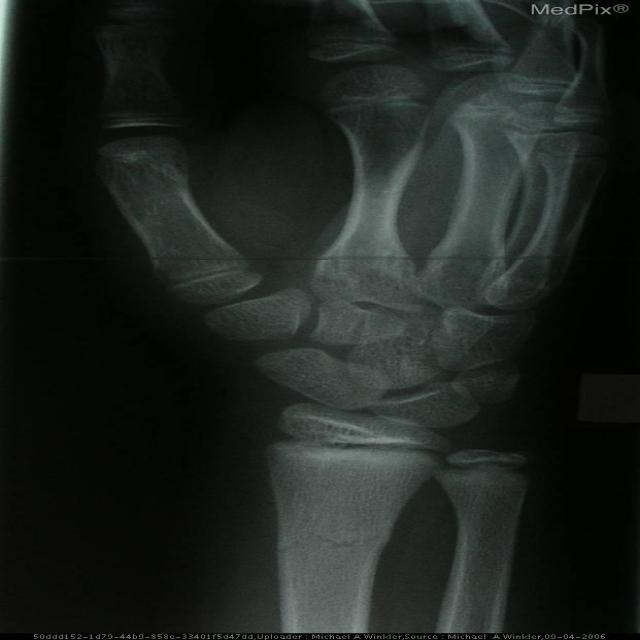fracture: (251, 480, 425, 606)
